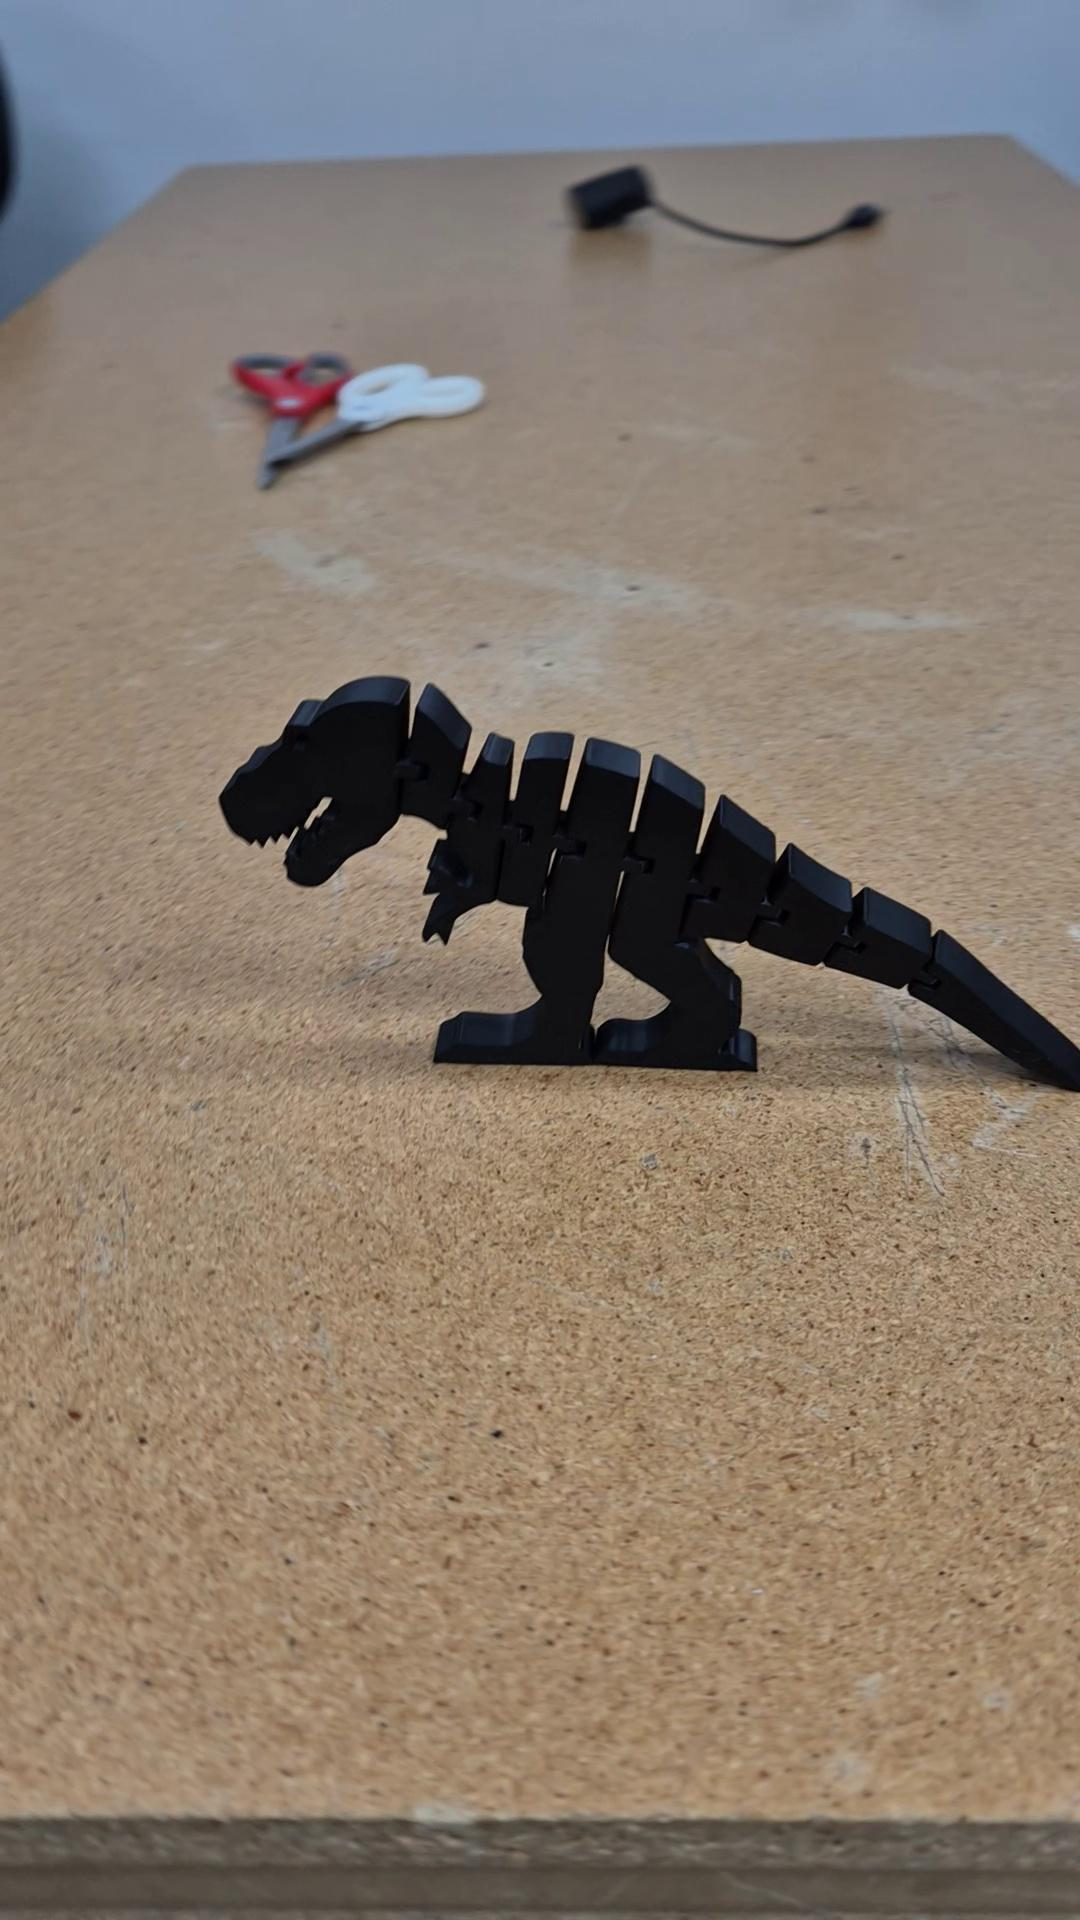dinosaur: (214, 671, 1080, 1100)
